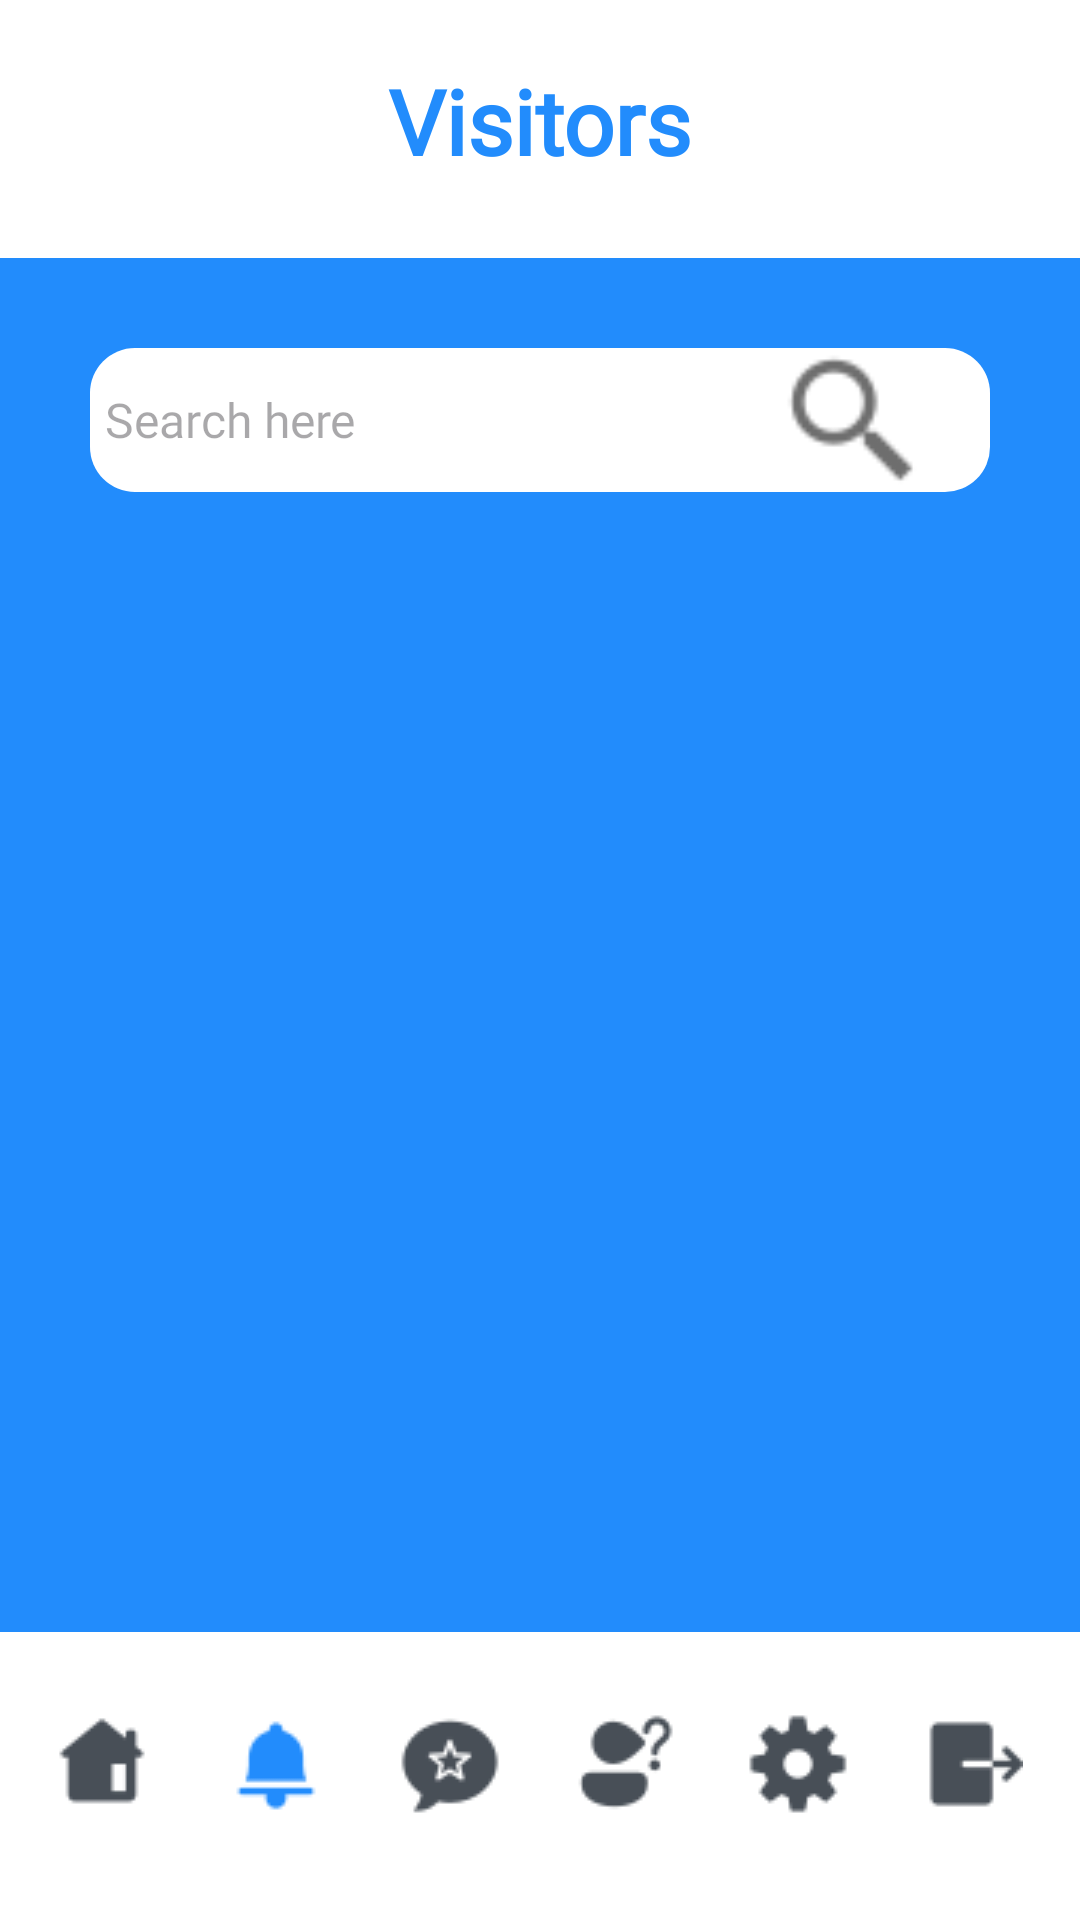

Icons on this 1080x1920 Android screen, each with the point to tap as (x,y):
Button to perform search: (852,420)
doorbellblue: (276,1765)
feedback: (450,1766)
helpcenter: (626,1761)
home: (102,1761)
settings: (798,1764)
